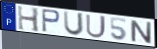5: (109, 16, 128, 42)
H: (16, 5, 41, 34)
N: (129, 19, 154, 45)
P: (41, 8, 62, 34)
U: (63, 10, 85, 37), (85, 13, 107, 39)
